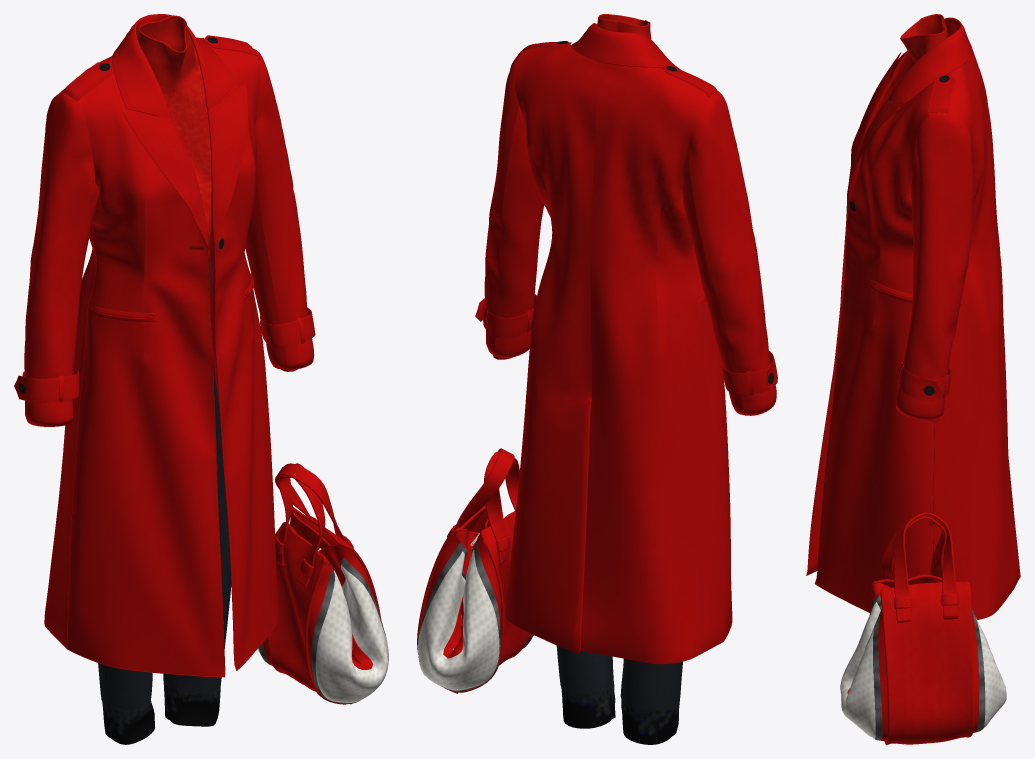
Rendered from dragon_new_year-suit-01.glb.
The picture shows the model from 3 angles, left to right: view 1: azimuth 30°, elevation 25°; view 2: azimuth 150°, elevation 25°; view 3: azimuth 270°, elevation 25°; orthographic projection. The views are drawn at different scales.
Parts seen in each view (by area): view 1: Object_12, Object_18, Object_14, Object_9, Object_16, Object_17, Object_23, Object_13, Object_22, Object_21, Object_11, Object_5 (+4 smaller); view 2: Object_13, Object_19, Object_14, Object_9, Object_12, Object_15, Object_23, Object_22, Object_21, Object_16, Object_10, Object_5 (+2 smaller); view 3: Object_18, Object_19, Object_16, Object_20, Object_9, Object_22, Object_23, Object_14, Object_5, Object_6, Object_13, Object_10 (+1 smaller).
Part boxes in pixels (left/top/right/bottom): Object_12: left=67, top=69, right=224, bottom=706; Object_18: left=172, top=44, right=278, bottom=693; Object_14: left=24, top=92, right=225, bottom=677; Object_9: left=169, top=516, right=388, bottom=726; Object_16: left=253, top=48, right=314, bottom=369; Object_17: left=108, top=82, right=254, bottom=710; Object_23: left=112, top=14, right=347, bottom=704; Object_13: left=44, top=56, right=112, bottom=649; Object_22: left=14, top=255, right=381, bottom=704; Object_21: left=102, top=523, right=323, bottom=738; Object_11: left=163, top=63, right=211, bottom=684; Object_5: left=94, top=277, right=375, bottom=744; Object_13: left=580, top=63, right=744, bottom=664; Object_19: left=505, top=45, right=606, bottom=654; Object_14: left=688, top=90, right=776, bottom=415; Object_9: left=418, top=525, right=615, bottom=718; Object_12: left=620, top=240, right=732, bottom=710; Object_15: left=495, top=106, right=544, bottom=357; Object_23: left=457, top=23, right=680, bottom=692; Object_22: left=417, top=293, right=777, bottom=693; Object_21: left=483, top=513, right=677, bottom=744; Object_16: left=484, top=50, right=522, bottom=355; Object_10: left=561, top=14, right=651, bottom=728; Object_5: left=423, top=292, right=705, bottom=735; Object_18: left=816, top=82, right=934, bottom=612; Object_19: left=933, top=61, right=1020, bottom=619; Object_16: left=896, top=112, right=973, bottom=420; Object_20: left=882, top=582, right=972, bottom=744; Object_9: left=840, top=593, right=1006, bottom=740; Object_22: left=870, top=36, right=974, bottom=744; Object_23: left=871, top=17, right=972, bottom=742; Object_14: left=806, top=52, right=914, bottom=575; Object_5: left=871, top=280, right=978, bottom=741; Object_6: left=875, top=74, right=985, bottom=732; Object_13: left=967, top=50, right=1008, bottom=452; Object_10: left=900, top=14, right=947, bottom=62.
Bounding box in the file's own units: 709 × 1395 × 416.
Materials: 5 (1 with a texture image).
